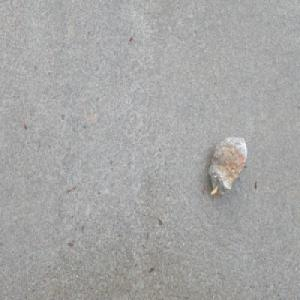Rock: (207, 134, 247, 199)
